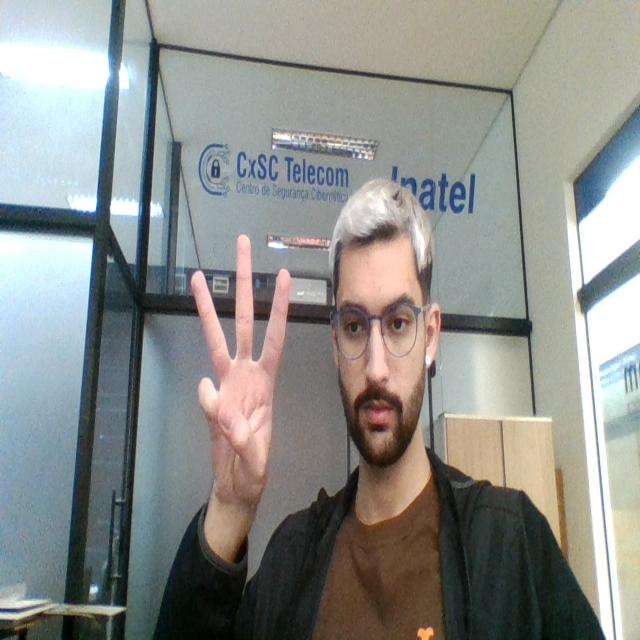W: (187, 222, 295, 528)
